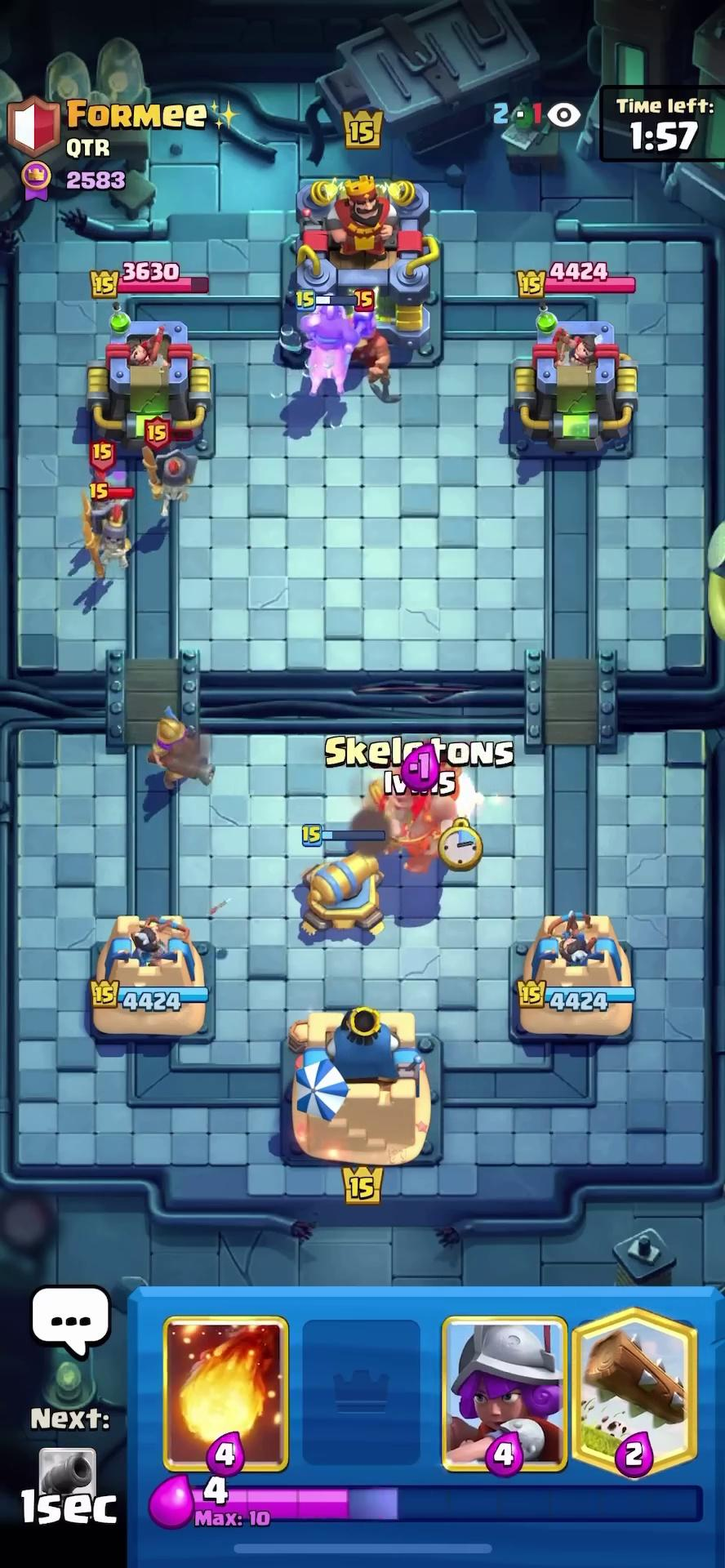cannon: (292, 829, 392, 947)
hog_rider: (282, 288, 365, 414)
ice_spirit: (437, 772, 486, 825)
musketeer: (129, 700, 218, 784)
